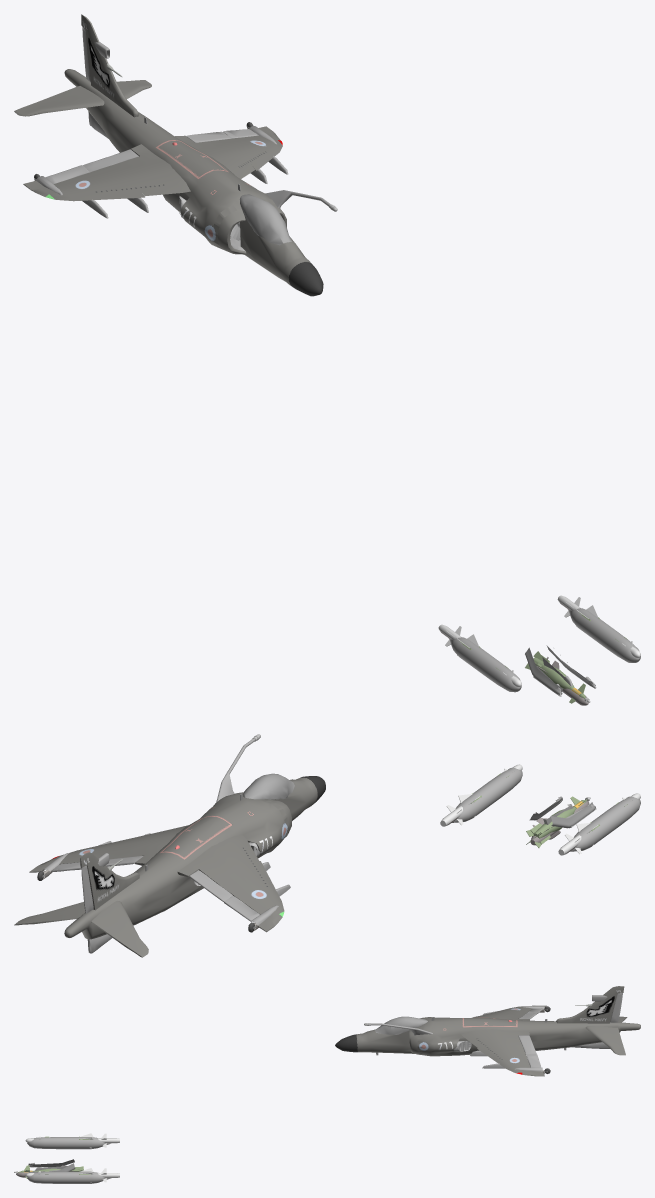
File: fighter_harrier.glb
The picture shows the model from 3 angles, top to bottom: view 1: azimuth 30°, elevation 25°; view 2: azimuth 150°, elevation 25°; view 3: azimuth 270°, elevation 25°; orthographic projection. The views are drawn at different scales.
Parts seen in each view (by area): view 1: StarboardLight; view 2: StarboardLight; view 3: StarboardLight.
Part boxes in pixels (left/top/right/bottom): StarboardLight: left=14, top=14, right=640, bottom=705; StarboardLight: left=14, top=734, right=640, bottom=957; StarboardLight: left=14, top=986, right=640, bottom=1183.
Bounding box in the file's own units: 3.79 × 4.88 × 14.27.
Materials: 29 (9 with a texture image).
